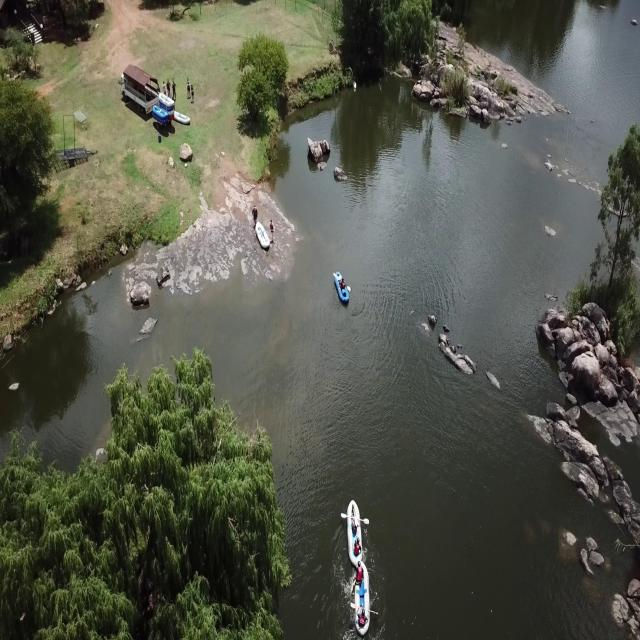kayak: (340, 495, 369, 571), (349, 559, 375, 637), (332, 270, 352, 309)
